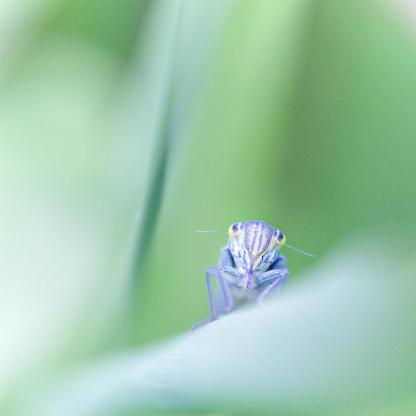Green-Leafhopper: (196, 218, 302, 324)
